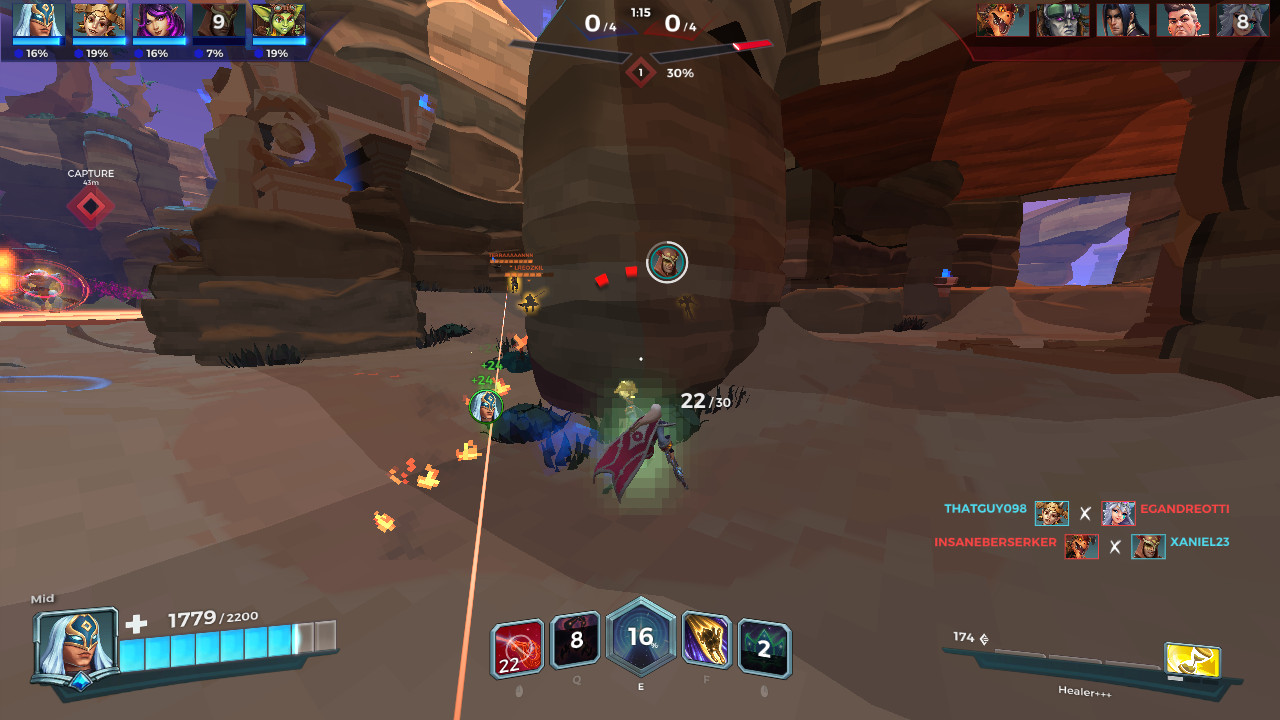model: (678, 291, 696, 320), (522, 292, 544, 313), (510, 269, 521, 293)
